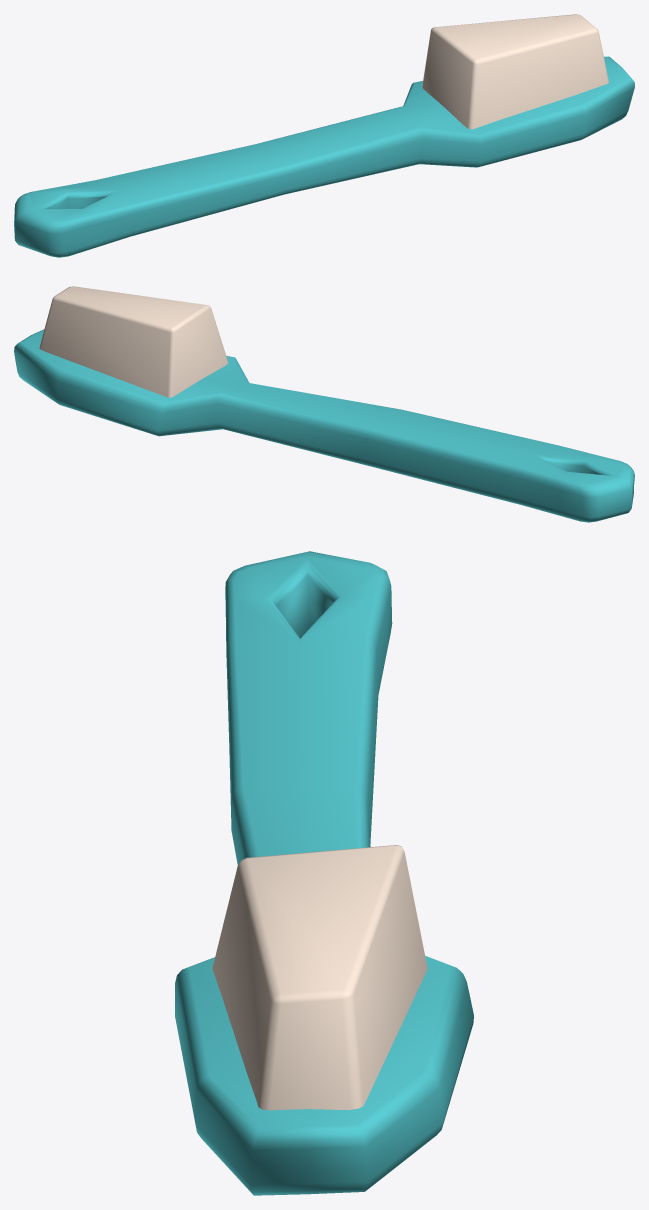
The model's file is props_toothbrush.fbx.
3 views of the same model, one above another, from view 1: azimuth 30°, elevation 25°; view 2: azimuth 150°, elevation 25°; view 3: azimuth 270°, elevation 25° (orthographic). The views are drawn at different scales.
Parts seen in each view (by area): view 1: toothbrush.002; view 2: toothbrush.002; view 3: toothbrush.002.
Part boxes in pixels (<box>): toothbrush.002: <box>14,14,634,257</box>; toothbrush.002: <box>14,286,634,522</box>; toothbrush.002: <box>175,551,473,1195</box>.
Size of the model in its own units: 0.9819 by 0.2105 by 0.1601.
